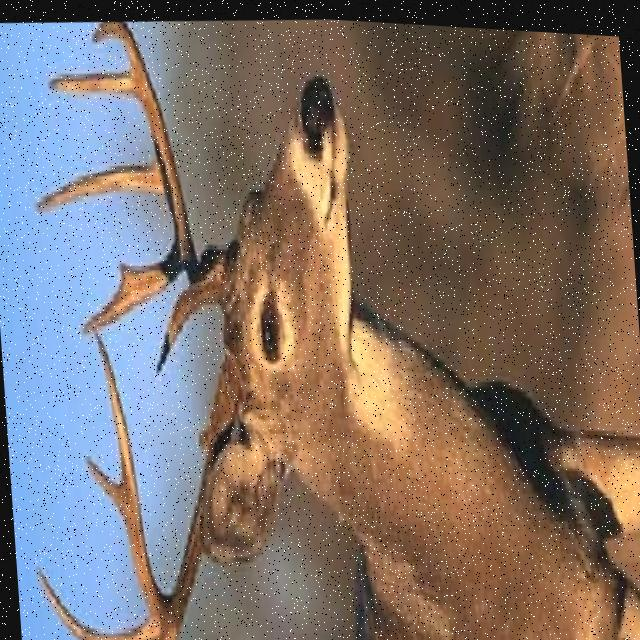E1: (116, 259, 141, 286), (196, 419, 209, 448)
L-F: (95, 331, 245, 640)
L-G1: (158, 634, 168, 640)
L-G2: (35, 562, 162, 640)
L-G3: (81, 451, 123, 515)
R-F: (89, 19, 239, 308)
R-G1: (155, 285, 198, 369)
R-G2: (81, 236, 186, 333)
R-G3: (34, 156, 163, 212)
R-G4: (46, 65, 142, 100)
